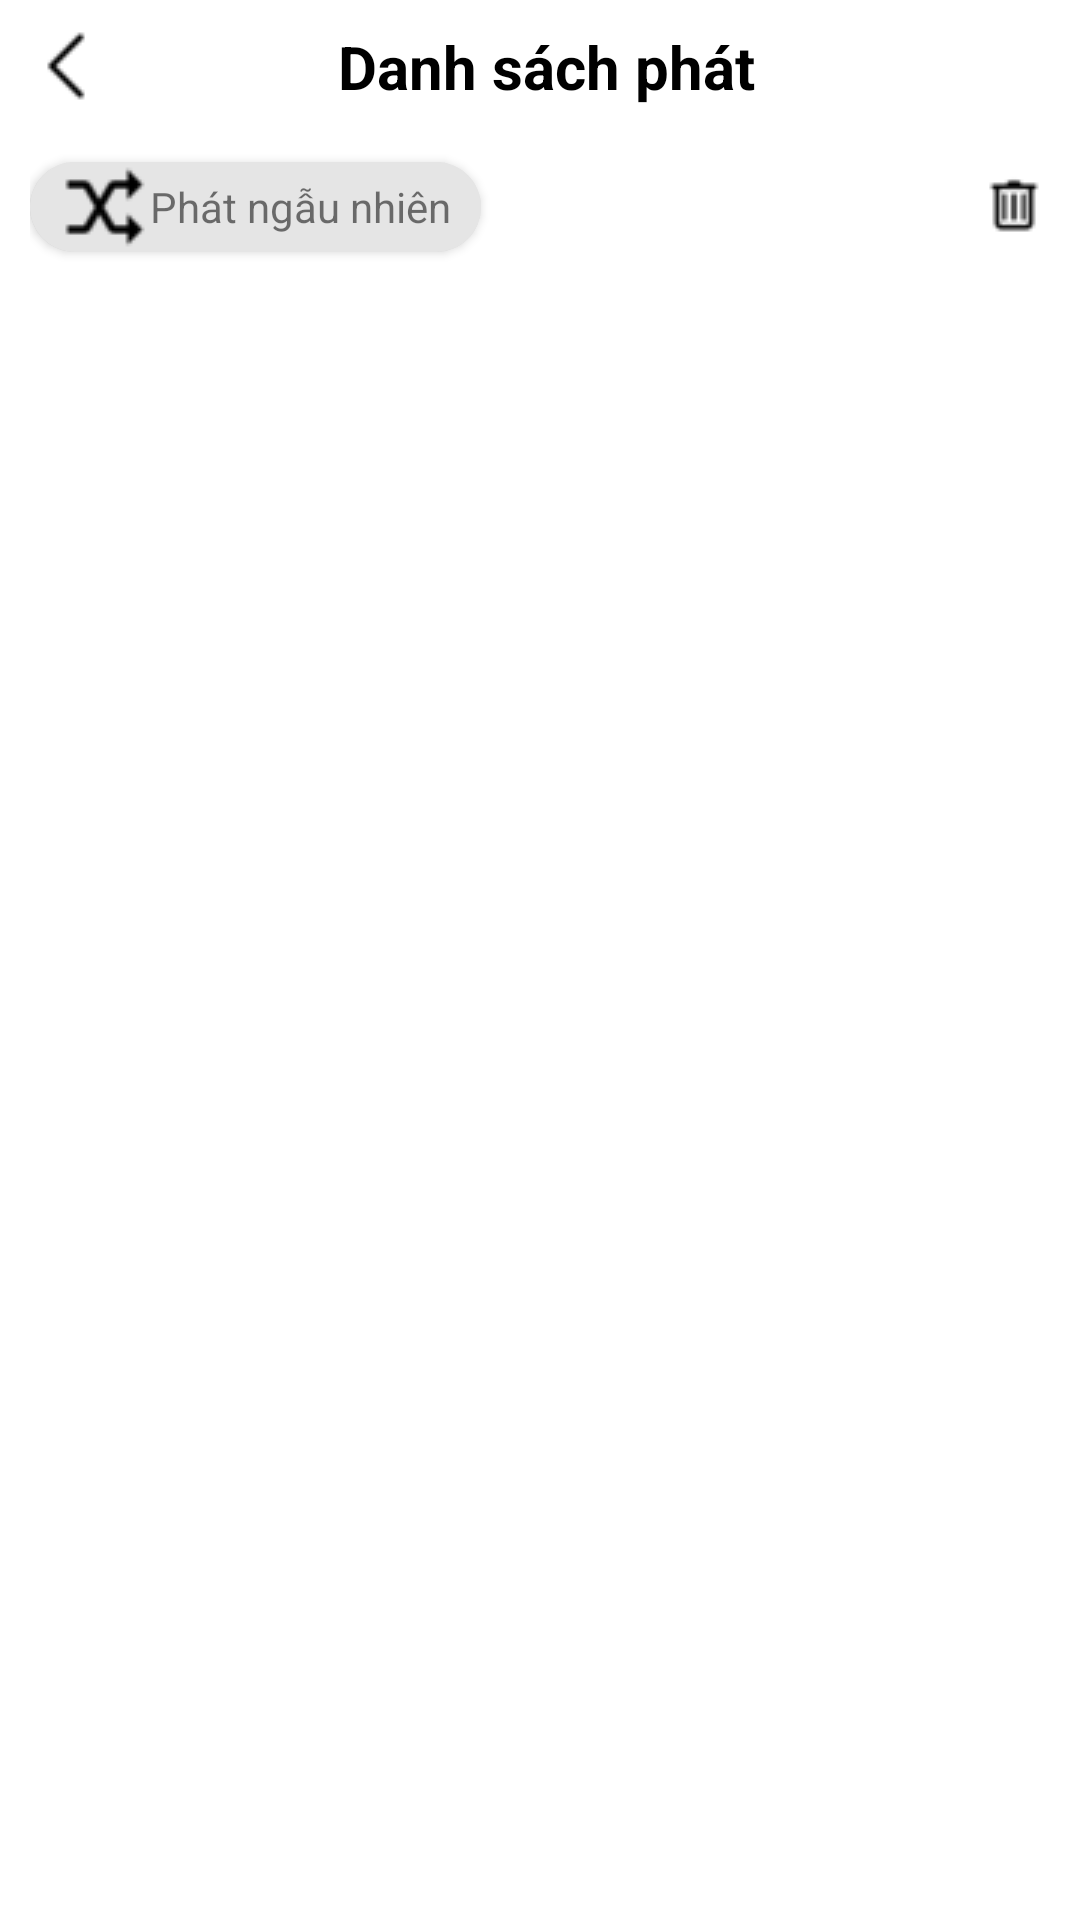

Named icons in this screenshot (1080px×1920px) and their centers, (x,y):
back: (66,66)
trash: (1014,205)
